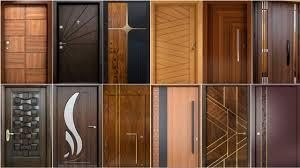door: (0, 84, 53, 168), (0, 3, 53, 86), (150, 1, 201, 85), (151, 85, 201, 168), (203, 84, 251, 168), (102, 83, 149, 168), (253, 1, 300, 85), (54, 3, 102, 84), (252, 86, 300, 166), (54, 85, 99, 168), (205, 2, 251, 82), (105, 4, 149, 85)
